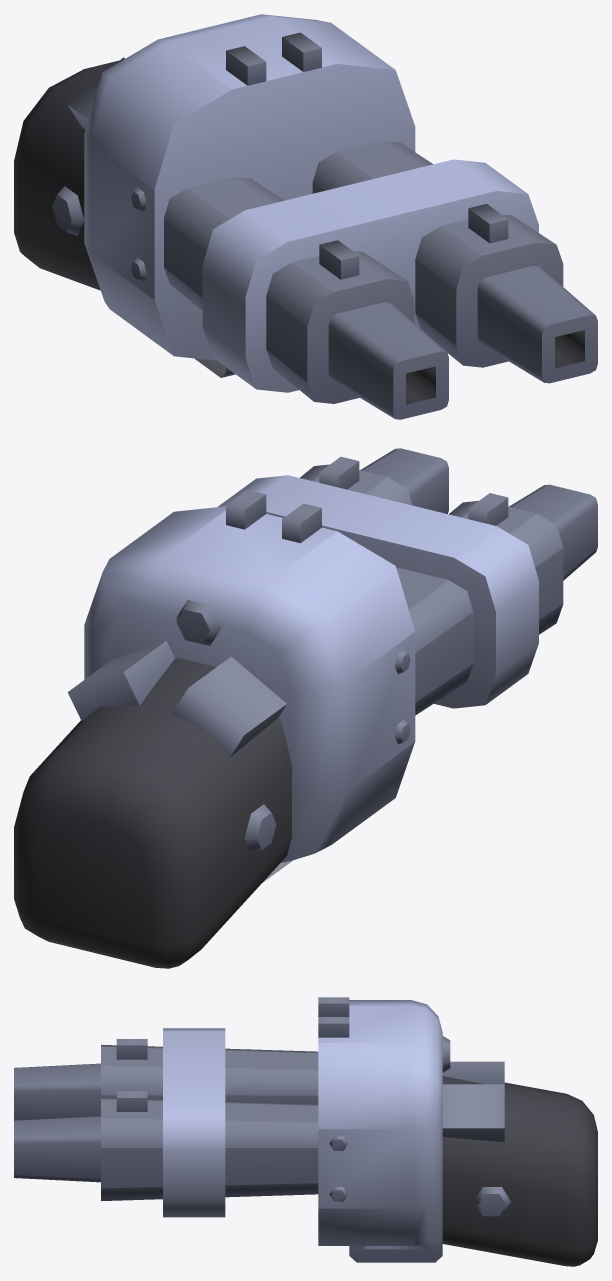
Rendered from gun2.glb.
3 views of the same model, one above another, from view 1: azimuth 30°, elevation 25°; view 2: azimuth 150°, elevation 25°; view 3: azimuth 270°, elevation 25° (orthographic). The views are drawn at different scales.
Parts seen in each view (by area): view 1: blaster-repeater, Group; view 2: blaster-repeater, Group; view 3: blaster-repeater, Group.
Boxes of the visible parts, left/top/right/bottom form: blaster-repeater: left=14, top=14, right=597, bottom=419; Group: left=202, top=159, right=538, bottom=392; blaster-repeater: left=14, top=448, right=597, bottom=968; Group: left=218, top=475, right=538, bottom=708; blaster-repeater: left=14, top=997, right=597, bottom=1266; Group: left=163, top=1028, right=225, bottom=1217.
Bounding box in the file's own units: 0.7875 × 0.85 × 1.88.
1 material, 1 textured.
